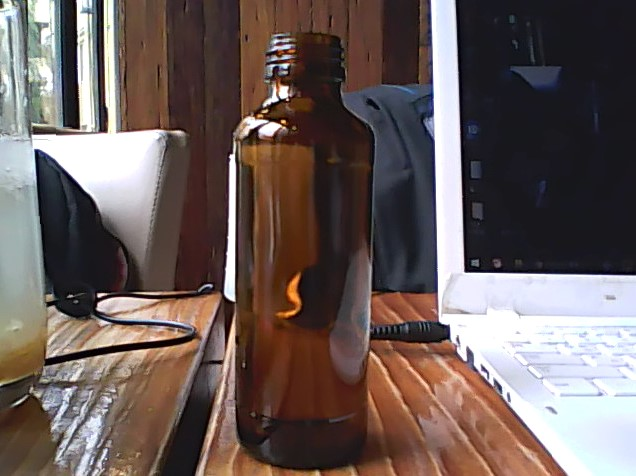Glass: (230, 29, 380, 470)
